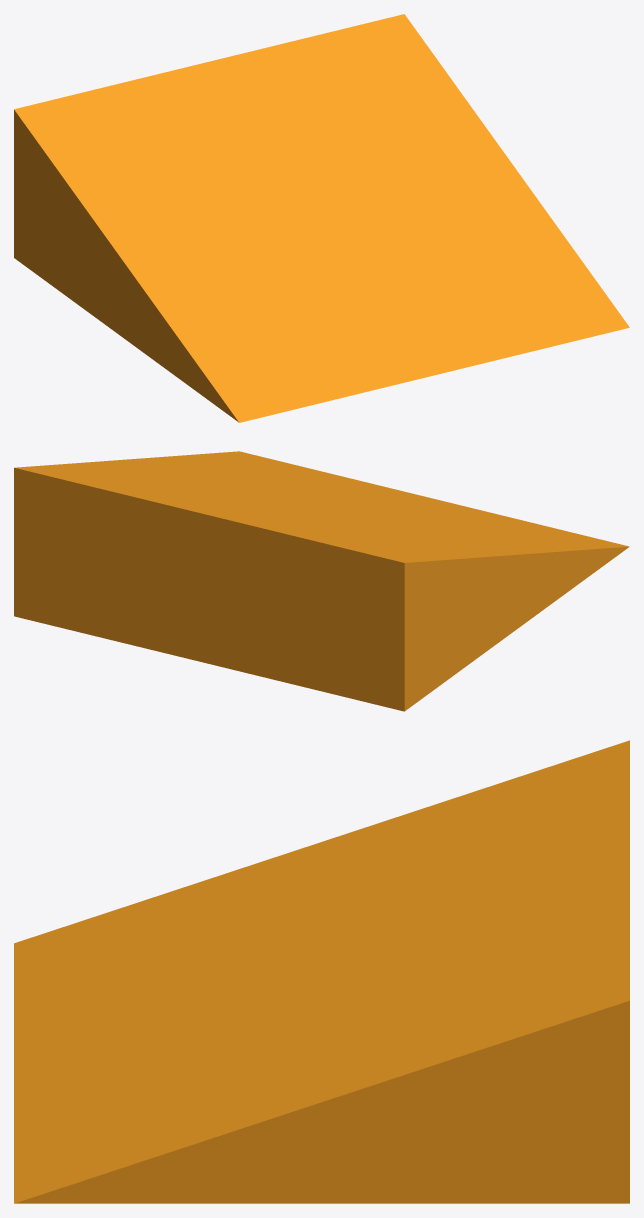
The model's file is SM_Buildings_Ramp_20_1x1_01.fbx.
3 renders of one model, top to bottom at view 1: azimuth 30°, elevation 25°; view 2: azimuth 150°, elevation 25°; view 3: azimuth 270°, elevation 25°, orthographic. The views are drawn at different scales.
Parts seen in each view (by area): view 1: SM_Buildings_Ramp_20_1x1_01; view 2: SM_Buildings_Ramp_20_1x1_01; view 3: SM_Buildings_Ramp_20_1x1_01.
Part boxes in pixels (x1=…): SM_Buildings_Ramp_20_1x1_01: x1=14, y1=14, x2=629, y2=422; SM_Buildings_Ramp_20_1x1_01: x1=14, y1=451, x2=629, y2=711; SM_Buildings_Ramp_20_1x1_01: x1=14, y1=740, x2=629, y2=1203.
Bounding box in the file's own units: 100 × 36.38 × 100.
